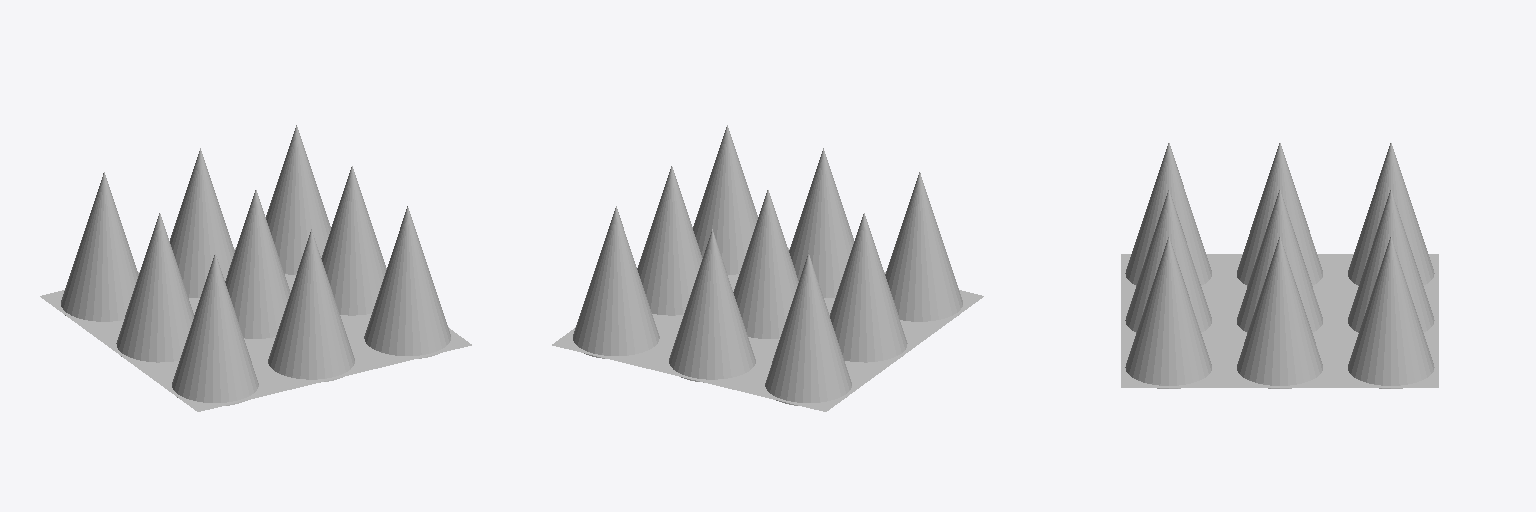
File: spikes.obj
The picture shows the model from 3 angles: view 1: azimuth 30°, elevation 25°; view 2: azimuth 150°, elevation 25°; view 3: azimuth 270°, elevation 25°; orthographic projection.
Visible parts, largest first — view 1: Cone.008_Cone.015, Cone.006_Cone.013, Cone.003_Cone.010, Cone_Cone.001, Cone.007_Cone.014, Plane_Plane.001, Cone.001_Cone.002, Cone.002_Cone.003, Cone.004_Cone.011, Cone.005_Cone.012; view 2: Cone.007_Cone.014, Cone.005_Cone.012, Cone.004_Cone.011, Cone_Cone.001, Cone.008_Cone.015, Plane_Plane.001, Cone.001_Cone.002, Cone.002_Cone.003, Cone.003_Cone.010, Cone.006_Cone.013; view 3: Plane_Plane.001, Cone.002_Cone.003, Cone.003_Cone.010, Cone.004_Cone.011, Cone.005_Cone.012, Cone.006_Cone.013, Cone.007_Cone.014, Cone.008_Cone.015, Cone.001_Cone.002, Cone_Cone.001.
Boxes of the visible parts, box(x1,y1,x2,y2) form: Cone.008_Cone.015: box(172, 253, 258, 405); Cone.006_Cone.013: box(268, 229, 354, 382); Cone.003_Cone.010: box(364, 206, 450, 358); Cone_Cone.001: box(116, 213, 193, 362); Cone.007_Cone.014: box(61, 172, 138, 321); Plane_Plane.001: box(40, 248, 471, 411); Cone.001_Cone.002: box(225, 190, 290, 338); Cone.002_Cone.003: box(321, 166, 386, 315); Cone.004_Cone.011: box(266, 125, 330, 274); Cone.005_Cone.012: box(170, 148, 234, 297); Cone.007_Cone.014: box(765, 253, 851, 405); Cone.005_Cone.012: box(669, 229, 755, 382); Cone.004_Cone.011: box(573, 206, 659, 358); Cone_Cone.001: box(830, 213, 907, 362); Cone.008_Cone.015: box(885, 172, 962, 321); Plane_Plane.001: box(552, 248, 983, 411); Cone.001_Cone.002: box(733, 190, 798, 338); Cone.002_Cone.003: box(637, 166, 702, 315); Cone.003_Cone.010: box(693, 125, 757, 274); Cone.006_Cone.013: box(789, 148, 853, 297); Plane_Plane.001: box(1121, 254, 1438, 387); Cone.002_Cone.003: box(1237, 237, 1322, 388); Cone.003_Cone.010: box(1125, 237, 1211, 388); Cone.004_Cone.011: box(1348, 237, 1434, 388); Cone.005_Cone.012: box(1348, 190, 1434, 332); Cone.006_Cone.013: box(1125, 190, 1211, 332); Cone.007_Cone.014: box(1348, 143, 1434, 285); Cone.008_Cone.015: box(1125, 143, 1211, 285); Cone.001_Cone.002: box(1237, 190, 1322, 332); Cone_Cone.001: box(1237, 143, 1322, 285).
Bounding box in the file's own units: 2 × 0.94 × 2.